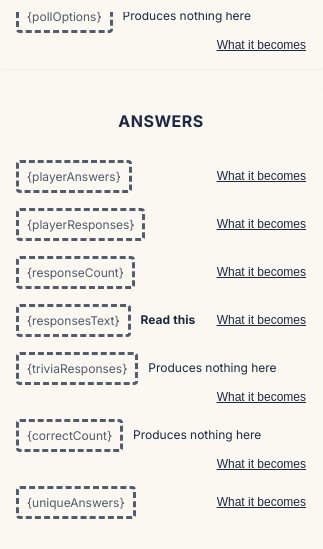
it: where no sample can be derived, it says so › survey has no emitted values at all, and no invented ones
(page scrolled)
Click the 4th button "What it becomes" at (261, 272), box [217,265,306,279]
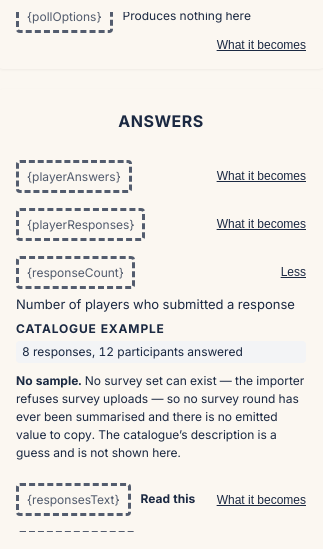
expect the text "No sample." is shown: met, box [16,373,82,388]
expect the element with test id "pvi-row-responseCount" shows "is not shown here": met, box [16,373,304,460]
